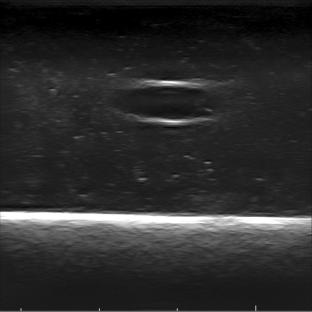vessel: (117, 80, 215, 126)
